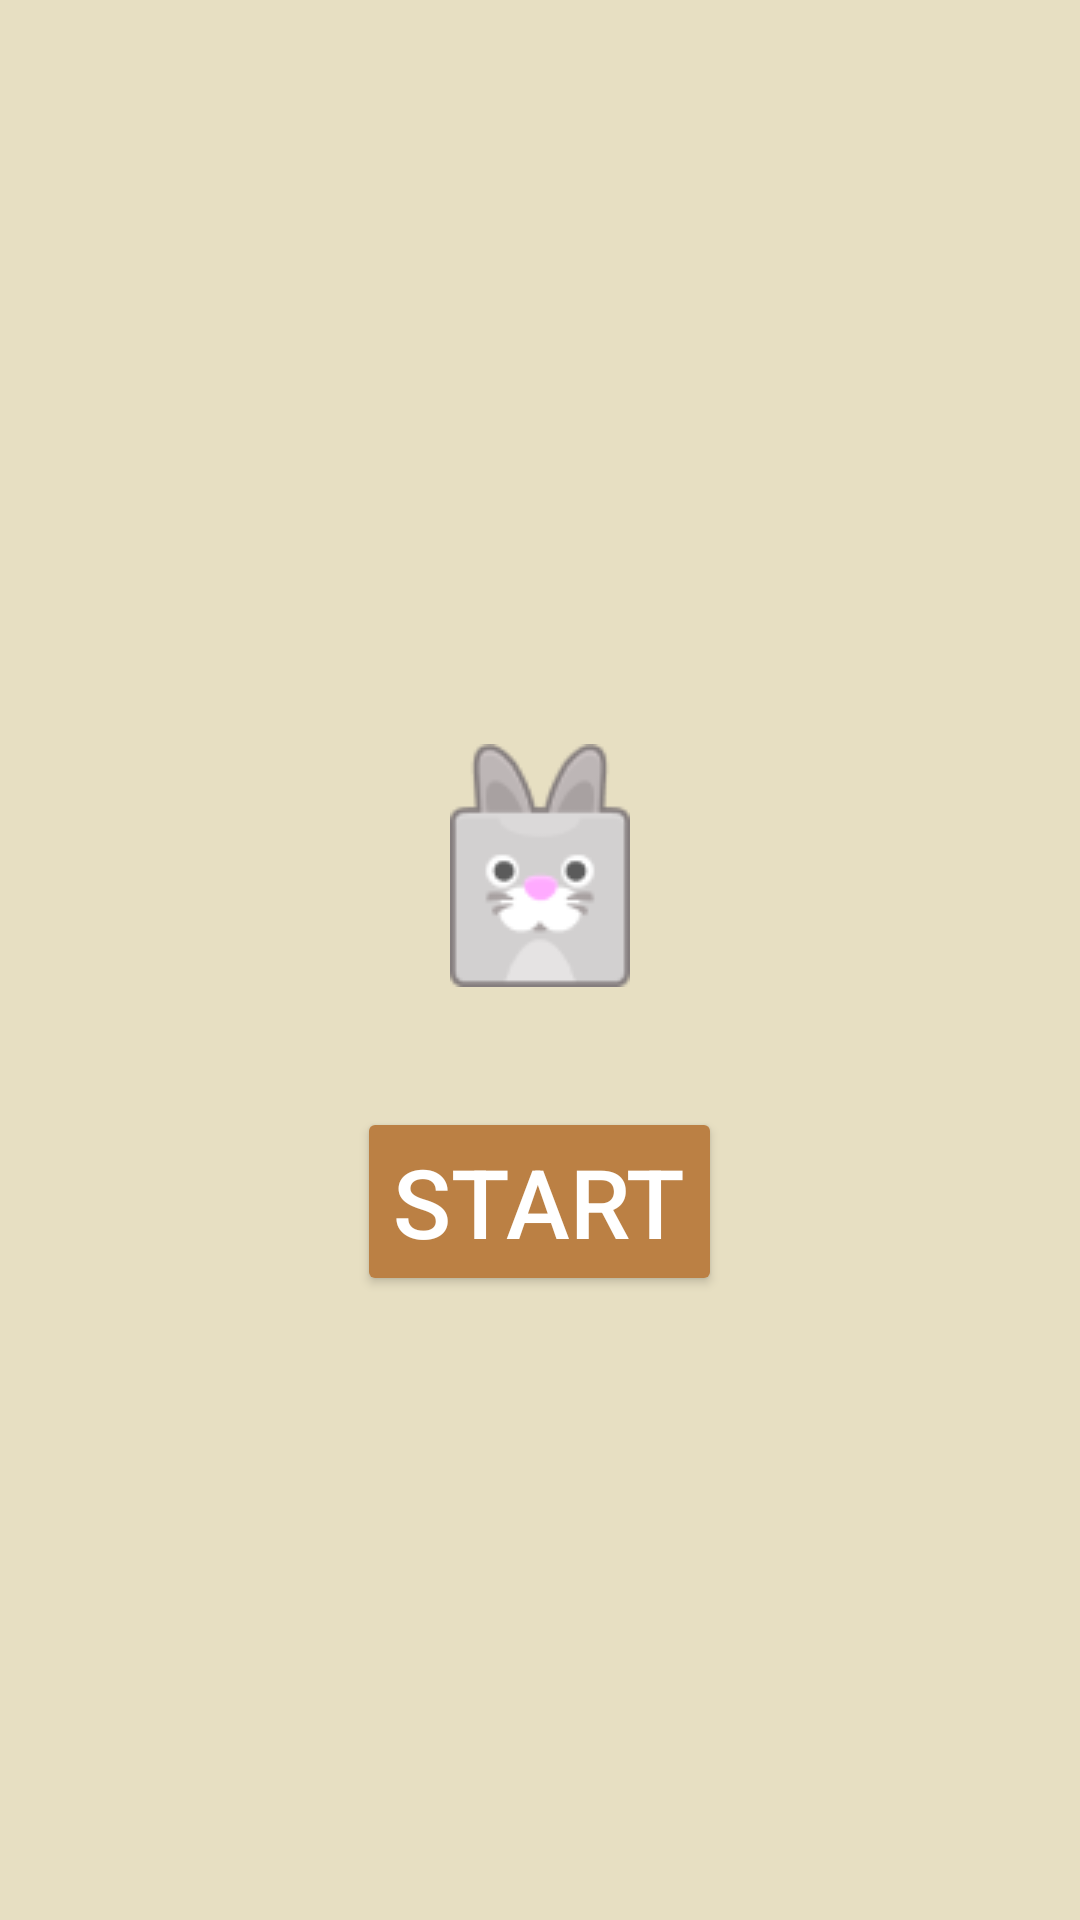

Icons on this 1080px x 1920px Android screen, each with its box as (x1=x1, y1=y1, x2=x2, y2=y2):
rabbit: (x1=450, y1=744, x2=630, y2=987)
